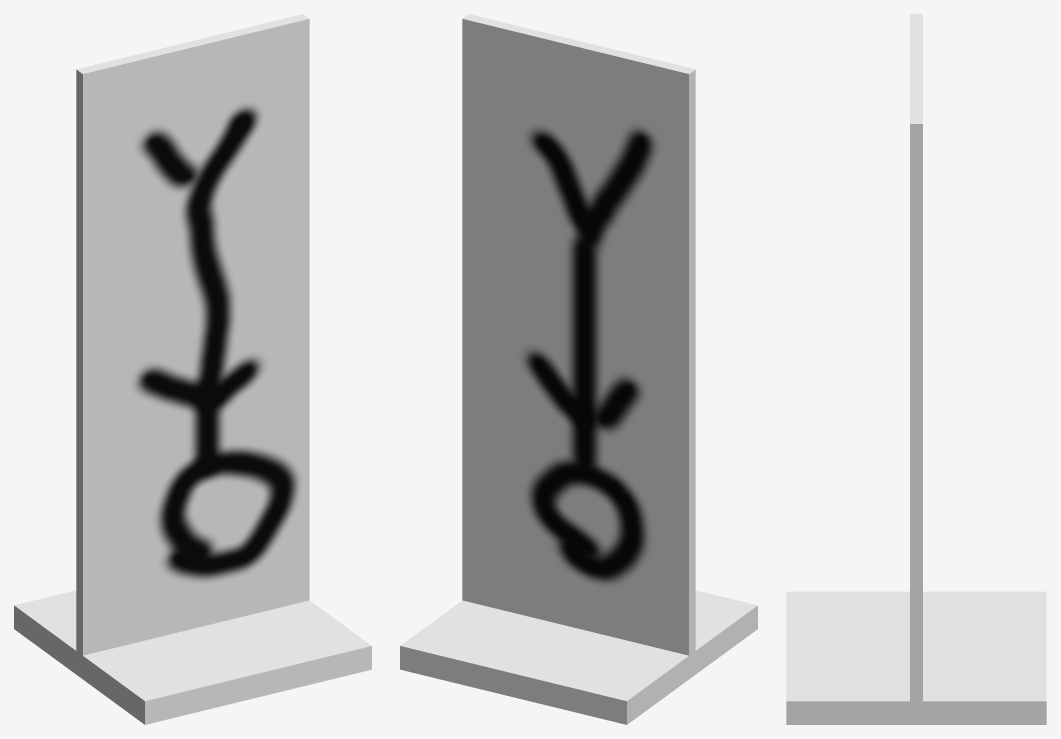
The model's file is char.dae.
3 views of the same model, side by side, from view 1: azimuth 30°, elevation 25°; view 2: azimuth 150°, elevation 25°; view 3: azimuth 270°, elevation 25° (orthographic).
Parts seen in each view (by area): view 1: Cube; view 2: Cube; view 3: Cube.
Part boxes in pixels (bbox=[...]): Cube: bbox=[14, 14, 371, 724]; Cube: bbox=[400, 14, 757, 724]; Cube: bbox=[786, 14, 1046, 724].
Bounding box in the file's own units: 2 × 2 × 5.1.
1 material, 1 textured.
